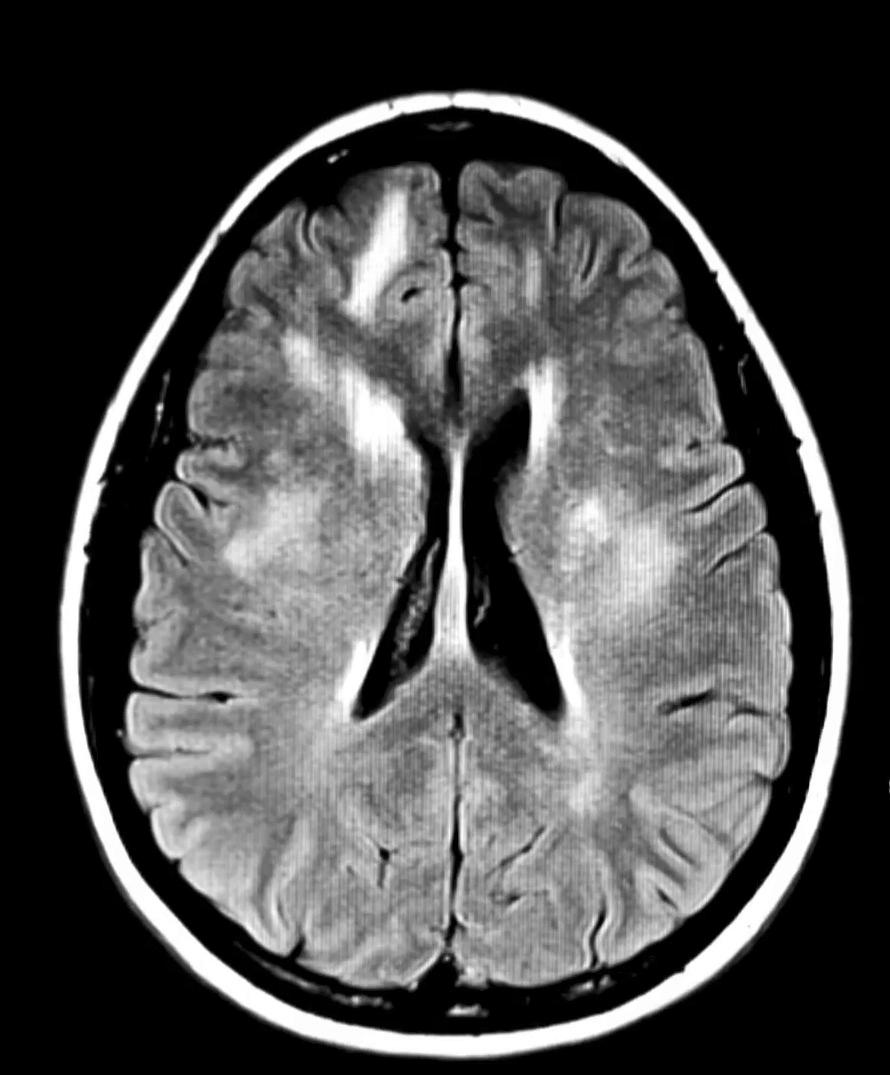Normal_Brain: (3, 9, 890, 1075)
